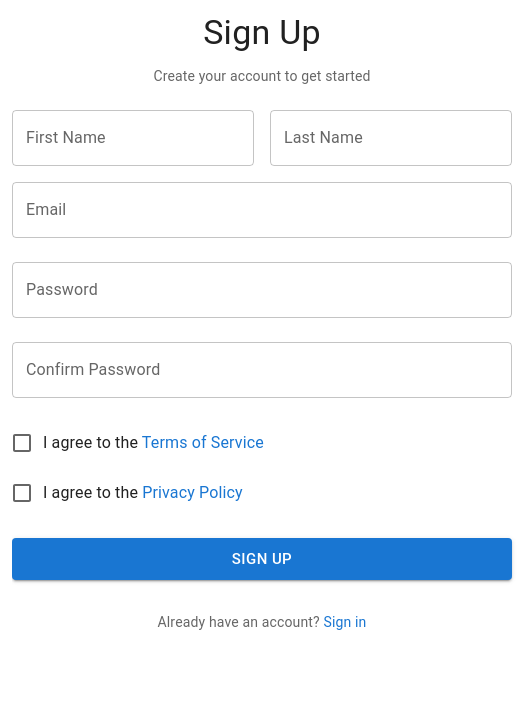
Scenario: RegisterForm - Validation - Password Strength › should show error when password is too short
Step 1. Type "short" into the password field labelled "Password" → (262, 290), box [12,262,512,318]
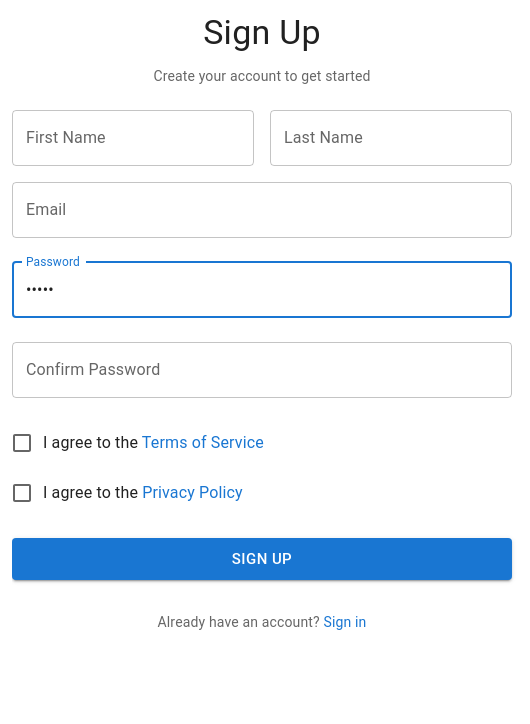
Step 2. Click the button "Sign Up" → click(262, 559), box [12,538,512,580]
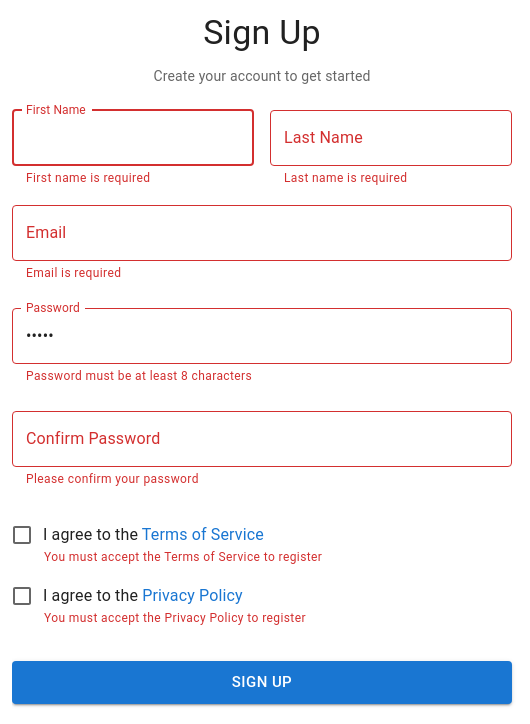
Now the text "Password must be at least 8 characters" is shown, box [26,369,252,383]
